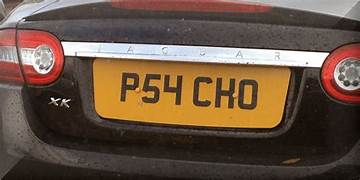number_plate: (93, 56, 282, 127)
